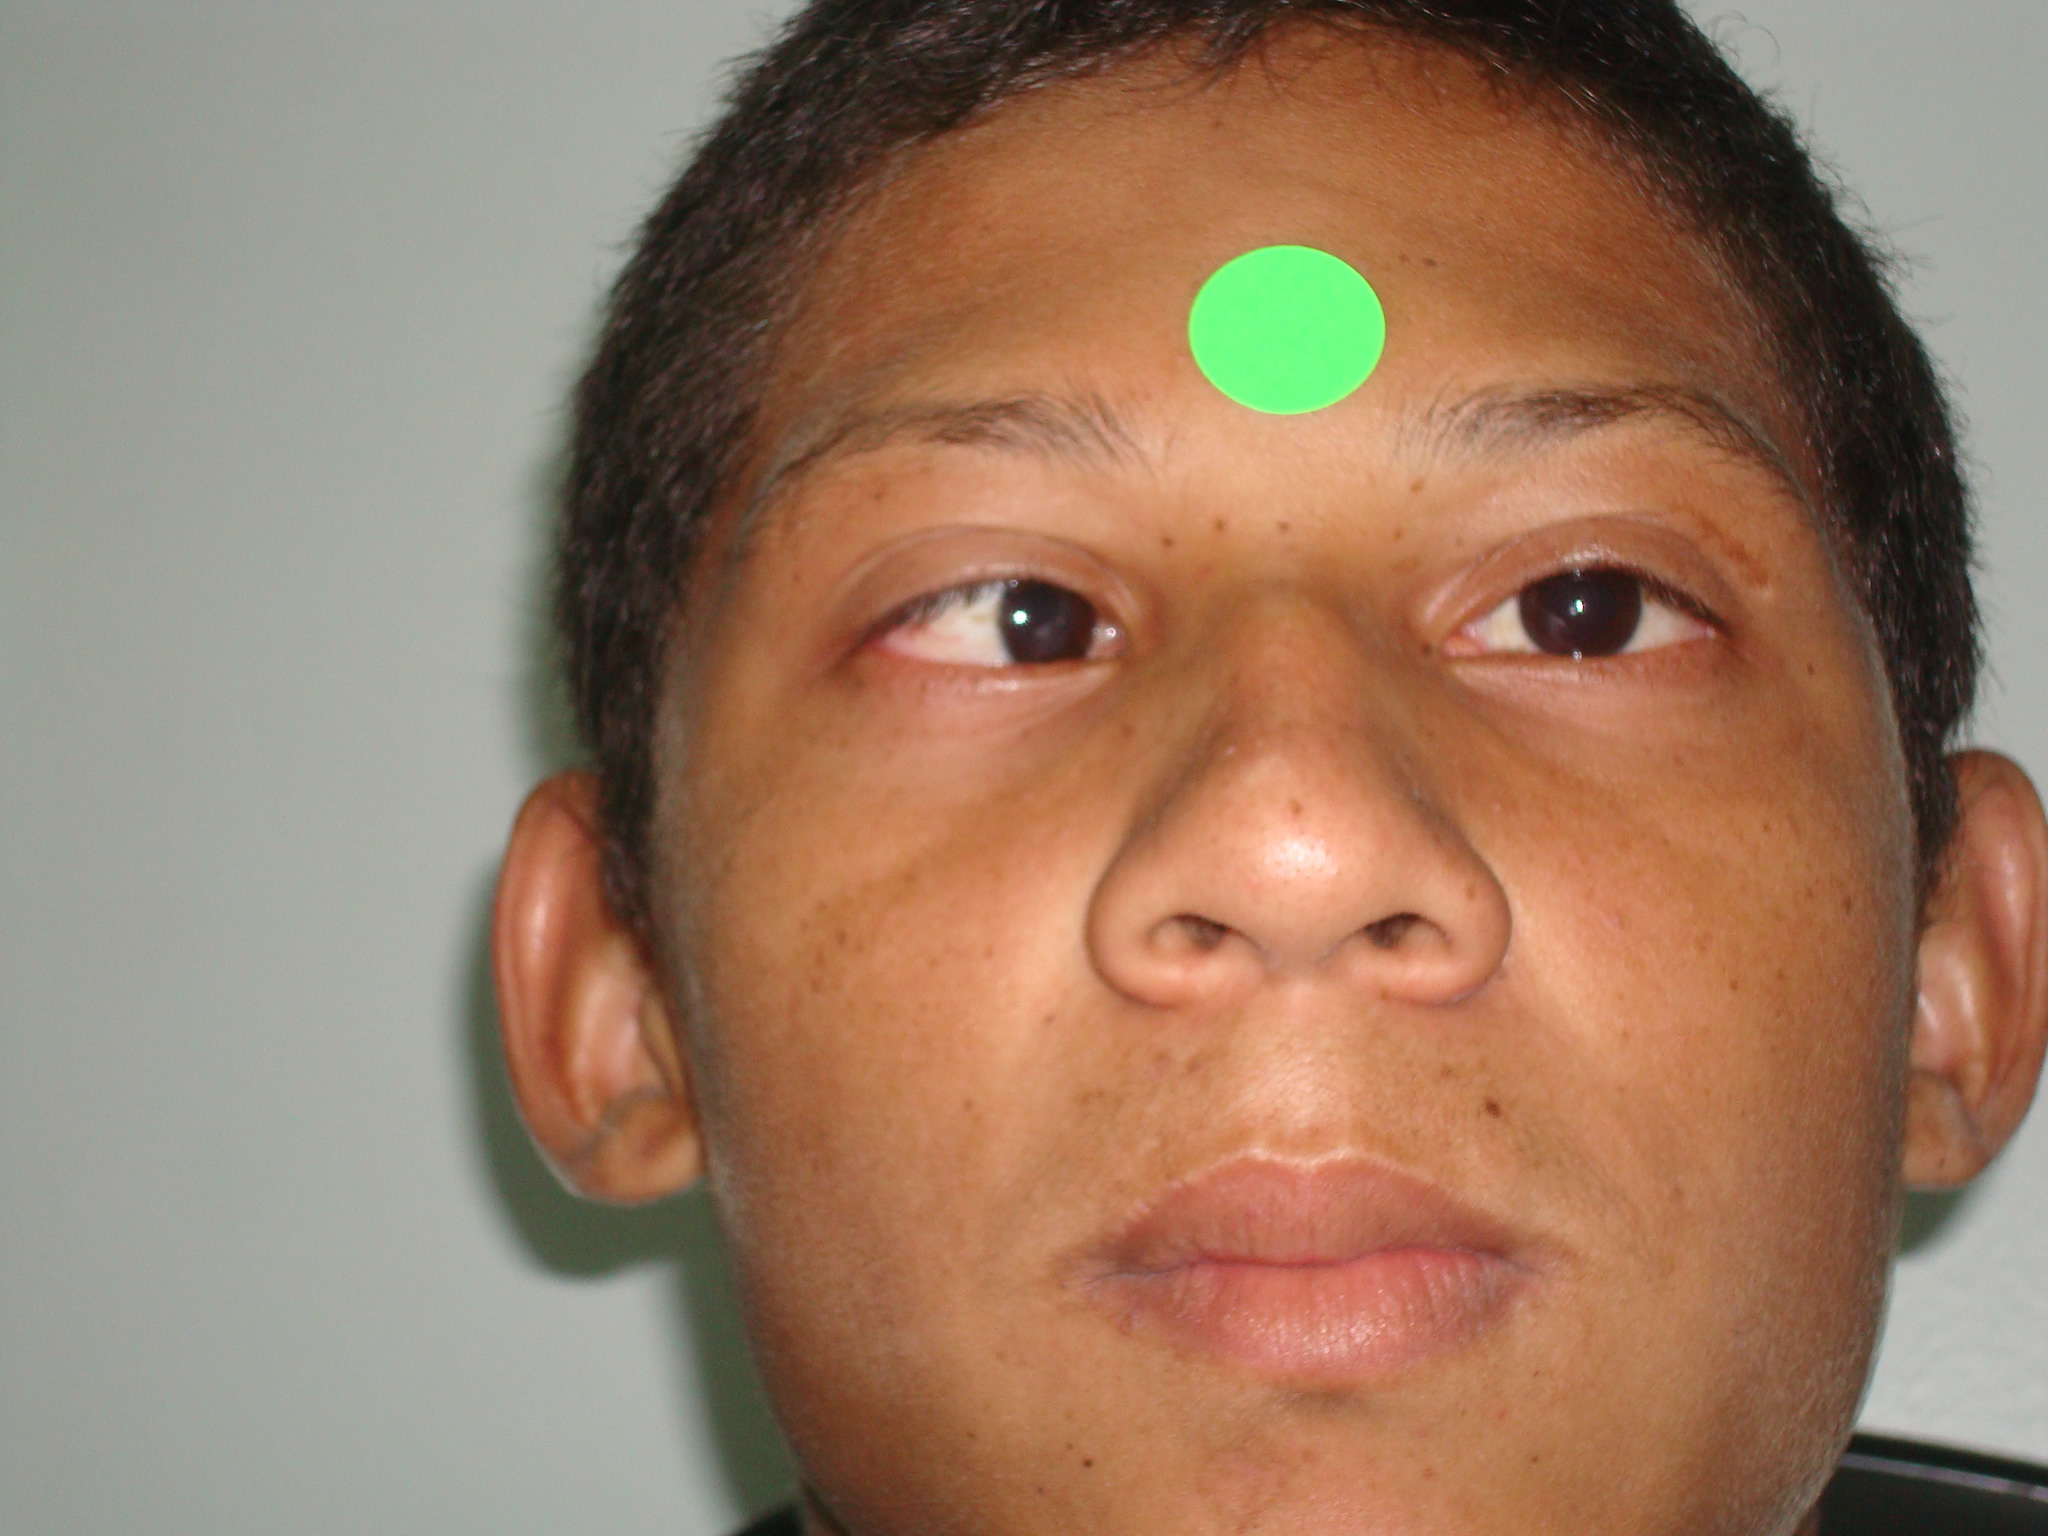flash: (1009, 607, 1032, 628), (1567, 595, 1588, 616)
limbo: (1516, 549, 1645, 655), (989, 557, 1092, 655)
